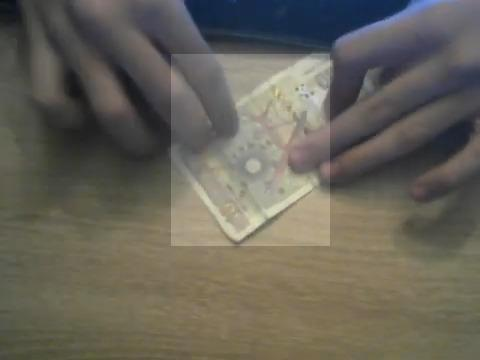10leva: (171, 54, 330, 246)
